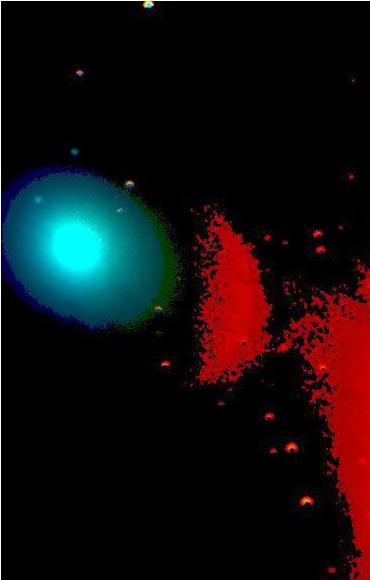star: (122, 264, 152, 294)
